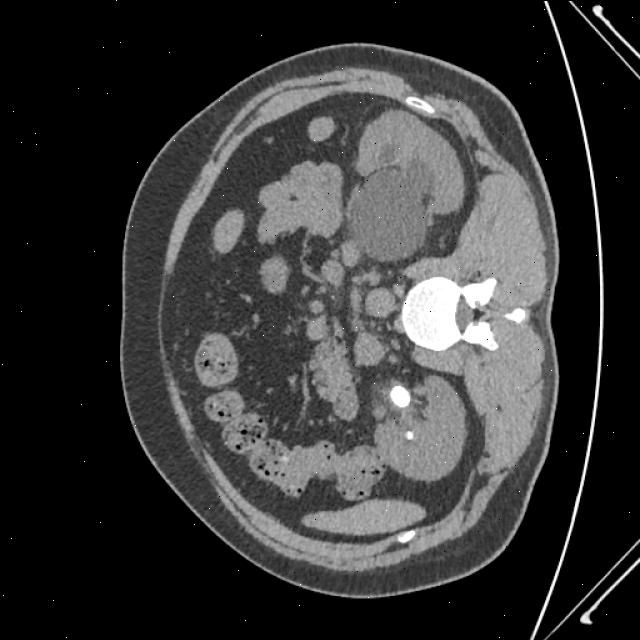kidneystone: (390, 385, 411, 406), (405, 430, 413, 439)
